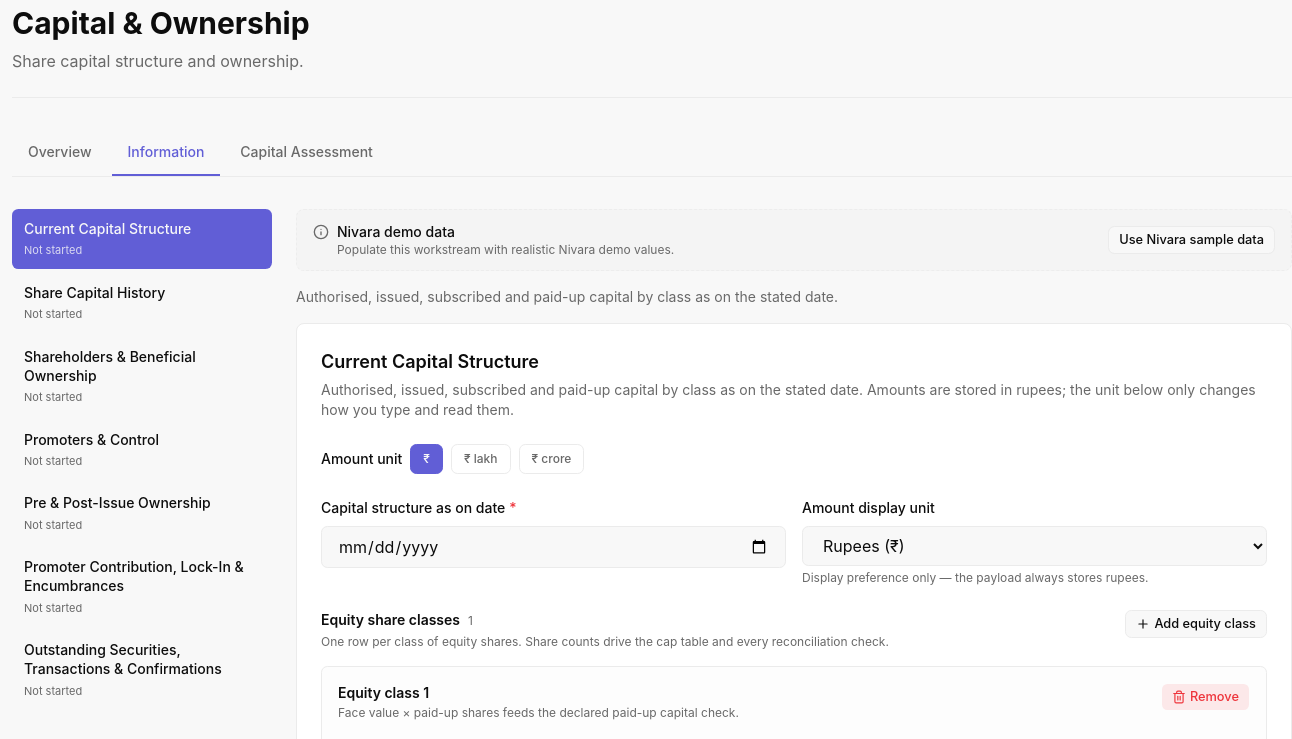
Nivara sample data action (Capital & Ownership) › populates draft without calling save API
This screenshot has width=1292, height=739.
Click the button "Use Nivara sample data" at (1192, 240), box 1108,226 -> 1275,254
(page scrolled)
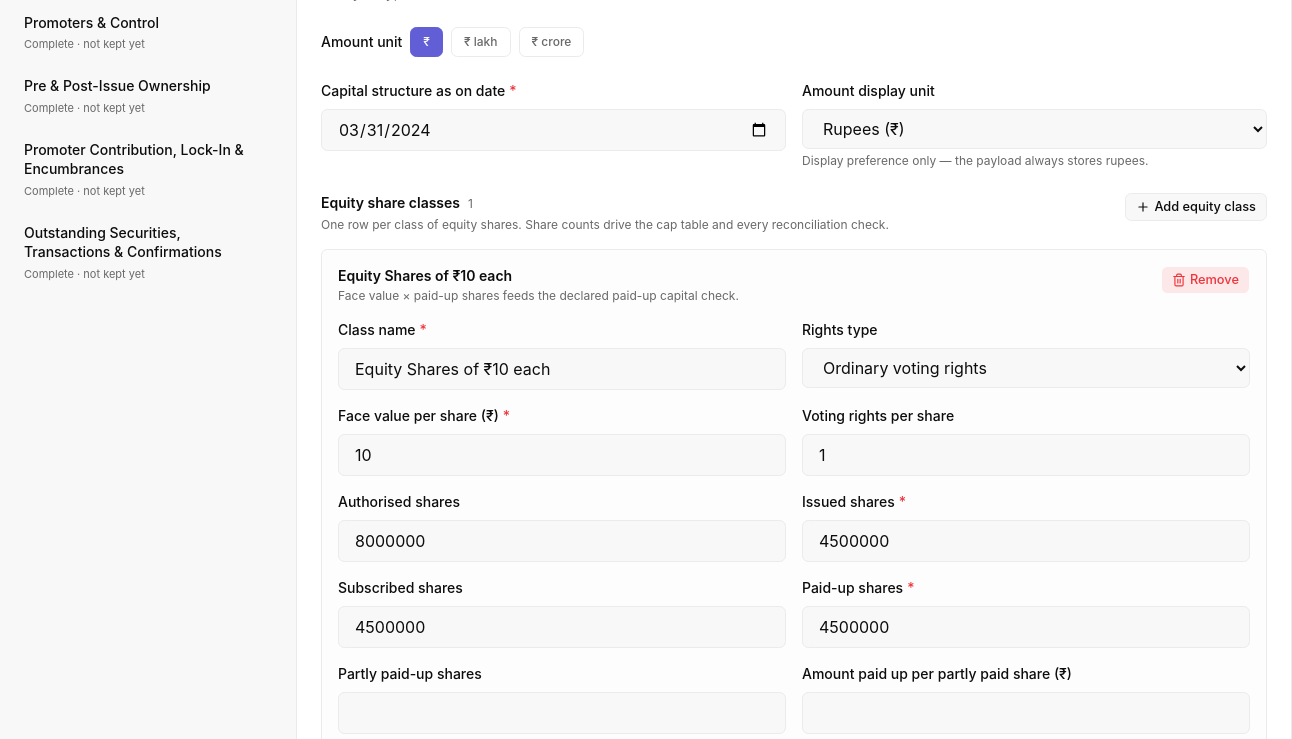
Result: the field showing "Equity Shares of ₹10 each" is shown at 338,348 -> 786,390
